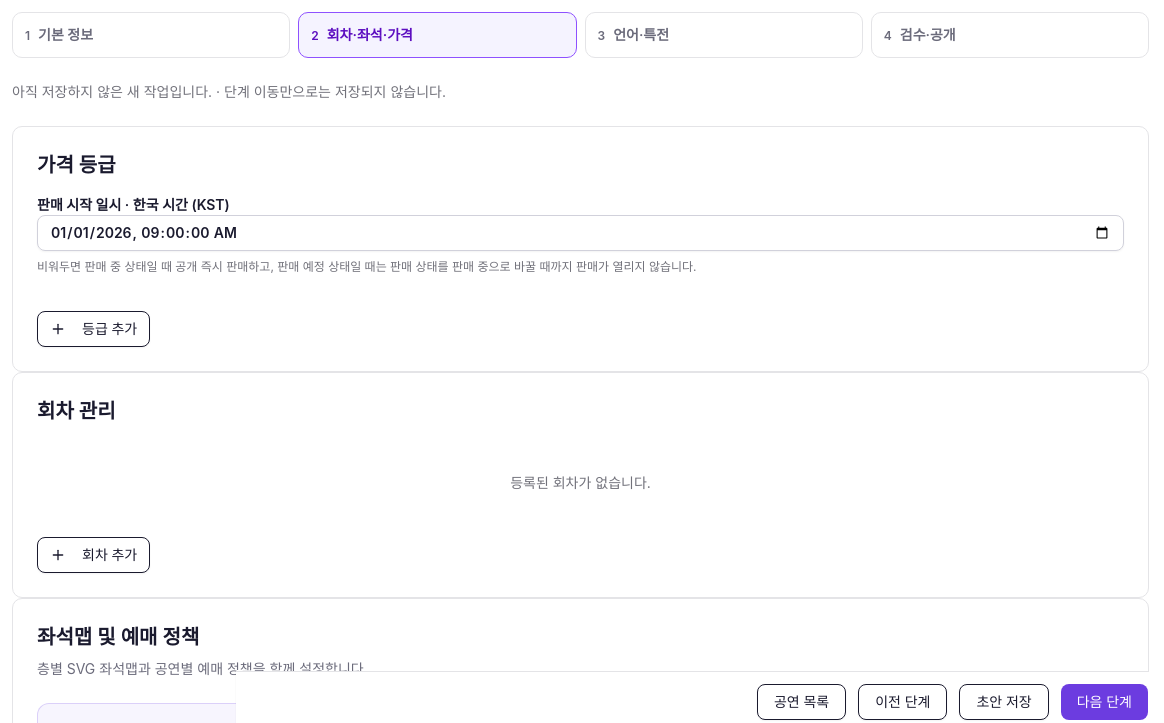
Test: PerformanceForm publish state from the preparation read › warns in review when the sale start of a public performance changes
Replace the text in the field labelled "판매 시작 일시" with "2099-02-01T10:00": (580, 233) [37, 215, 1124, 251]
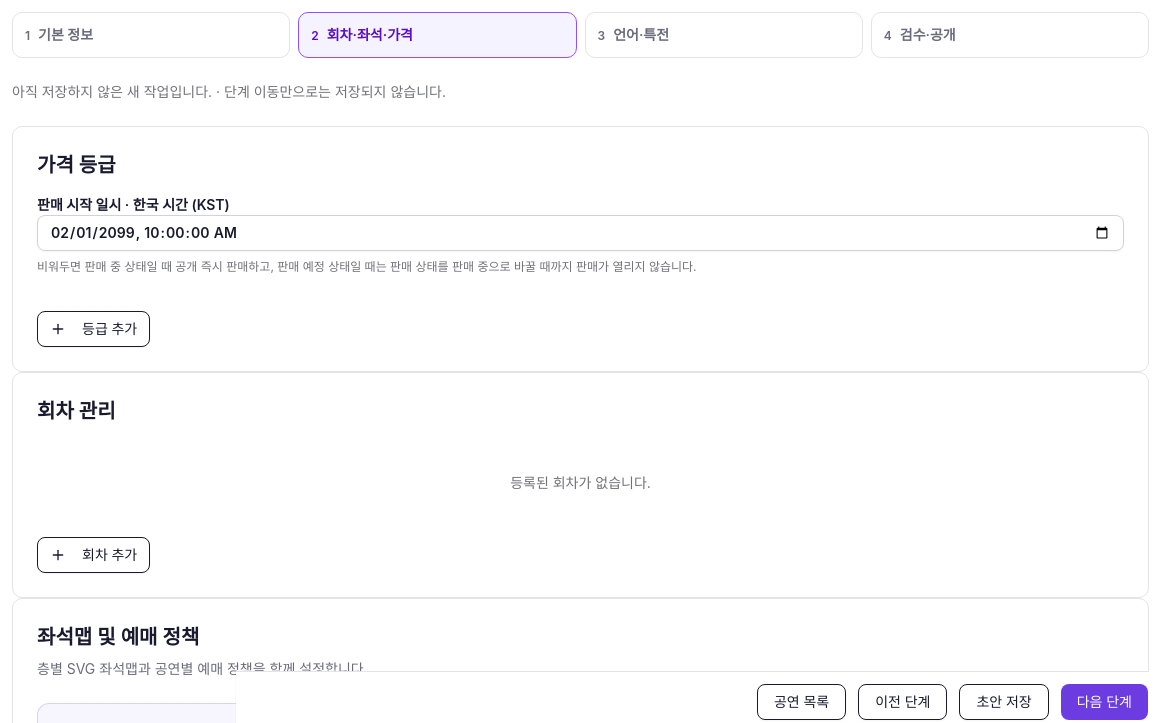
Click the button "4검수·공개": click(928, 34) [871, 12, 1149, 58]
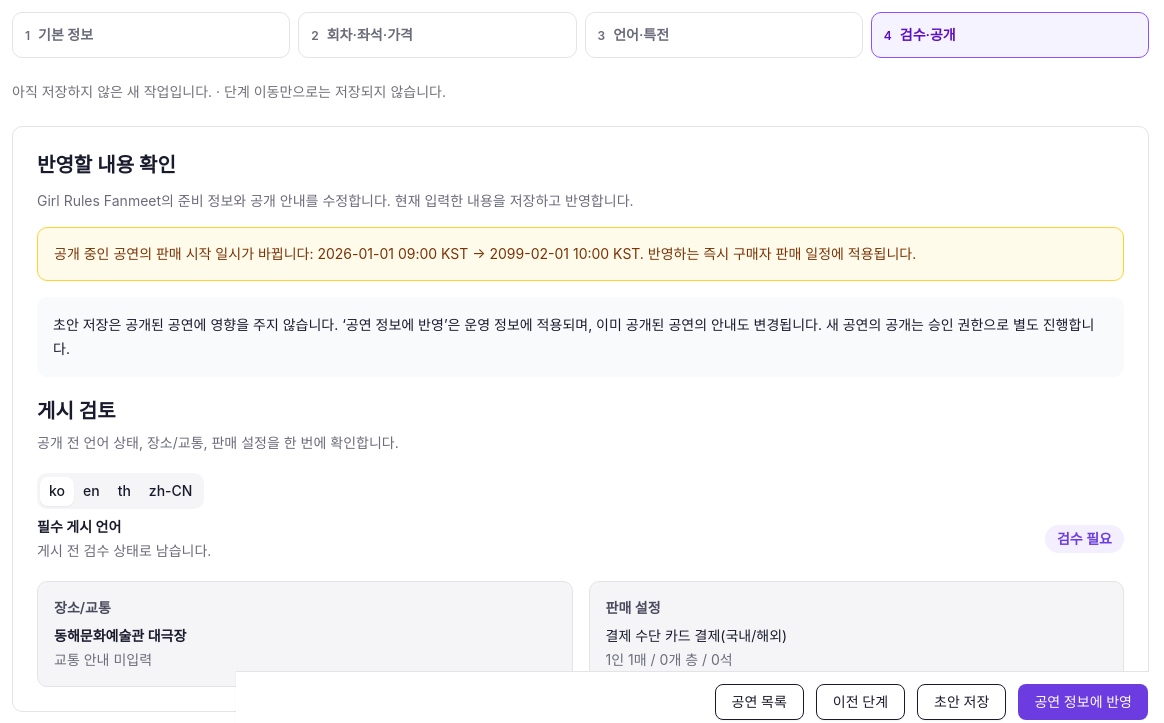
Expected: the text "공개 중인 공연의 판매 시작 일시가 바뀝니다" shows "2026-01-01 09:00 KST → 2099-02-01 10:00 KST", [37, 227, 1124, 281]
